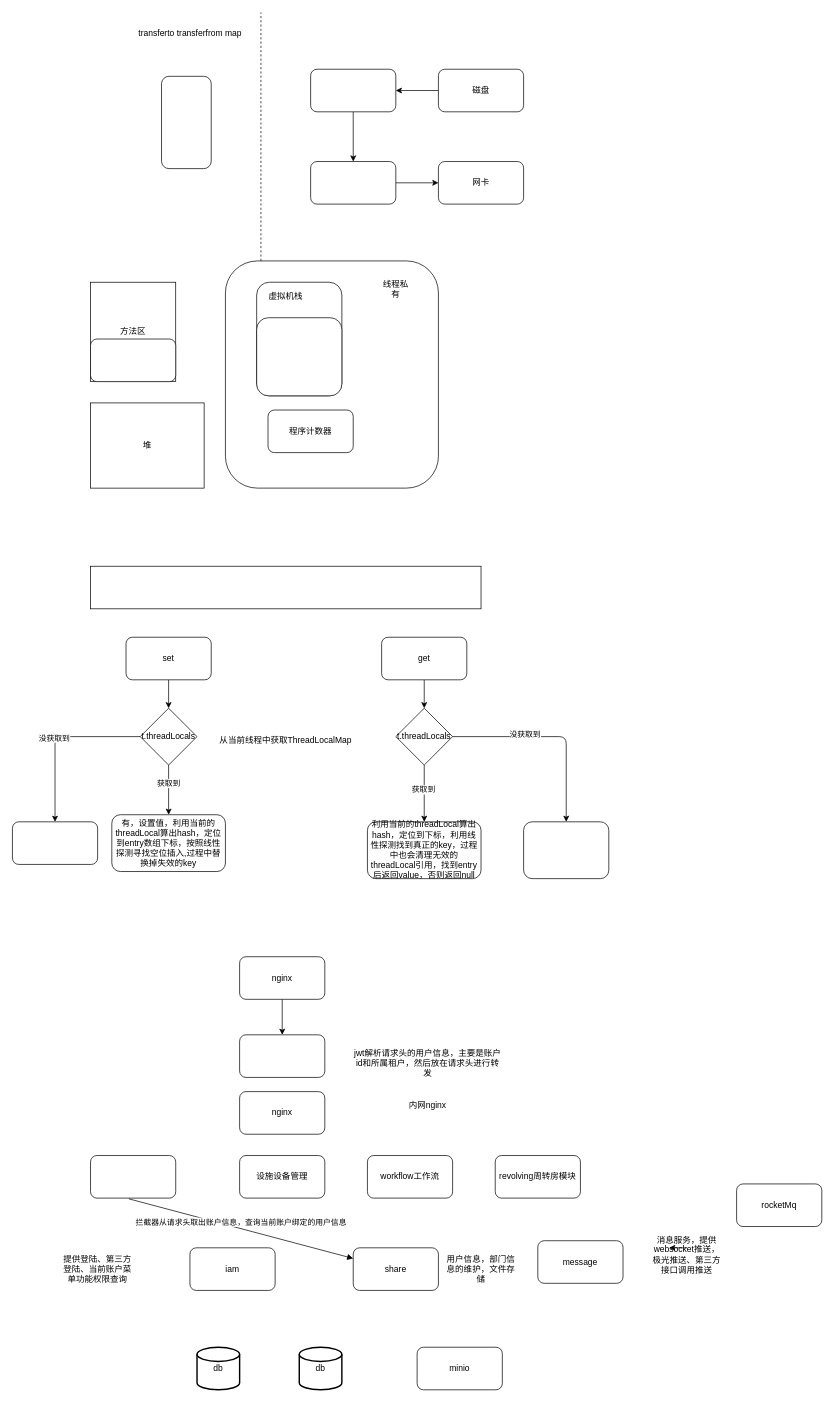
This 834x1403 diagram has some shape labels left out. Each missing label, with the centre of its shape:
"gateway" goes at point 282,1055.
"socket缓存区" goes at point 353,182.
"threadLoacl" goes at point 285,587.
"内核缓冲区" goes at point 353,90.
"创建ThreadLocalMap,并把当前threadLocal作为first放到Map中" goes at point 55,842.
"创建ThreadLocalMap,并把当前threadLocal作为可以，null作为值放到Map中，同时返回null" goes at point 566,850.
"应用程序内存" goes at point 186,122.
"物业管理" goes at point 133,1176.
"运行时常量池" goes at point 133,360.
